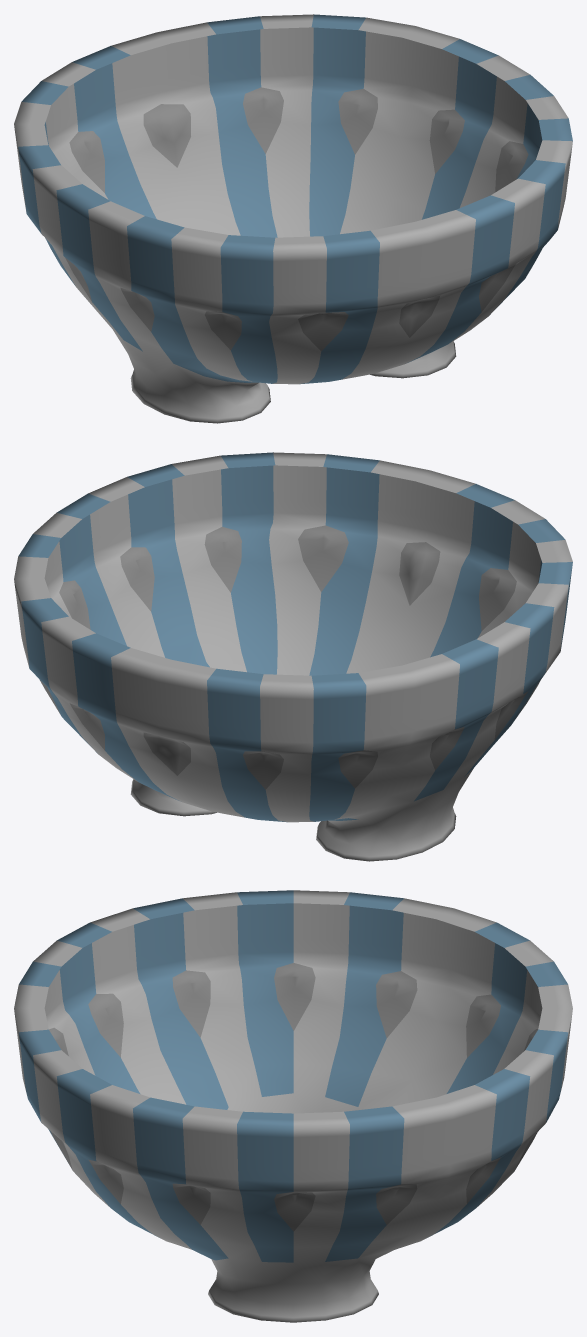
3 renders of one model, top to bottom at view 1: azimuth 30°, elevation 25°; view 2: azimuth 150°, elevation 25°; view 3: azimuth 270°, elevation 25°, orthographic. The views are drawn at different scales.
Visible parts, largest first — view 1: beach_pants; view 2: beach_pants; view 3: beach_pants.
Boxes of the visible parts, <box> form: beach_pants: <box>14,14,572,423</box>; beach_pants: <box>14,452,572,861</box>; beach_pants: <box>14,890,572,1322</box>.
Size of the model in its own units: 1.4 by 0.6674 by 1.4.
